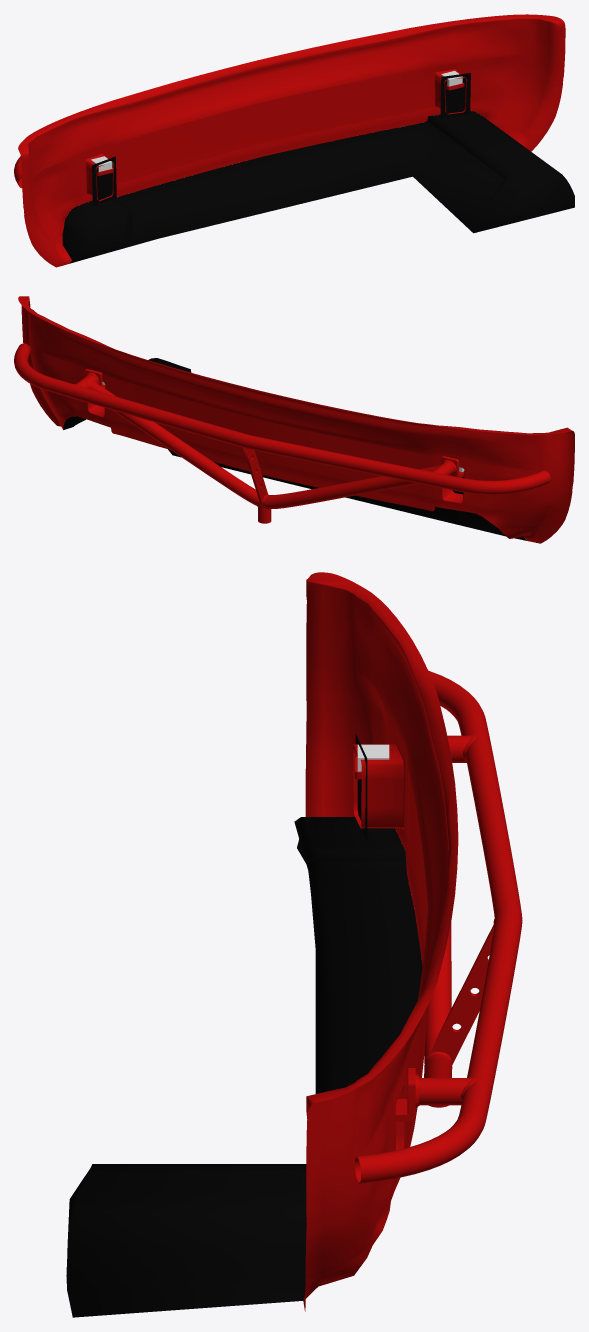
File: rearbumper_bashbar.glb
The picture shows the model from 3 angles, top to bottom: view 1: azimuth 30°, elevation 25°; view 2: azimuth 150°, elevation 25°; view 3: azimuth 270°, elevation 25°; orthographic projection. The views are drawn at different scales.
Visible parts, largest first — view 1: nobumper, undercarriage, screws, bashbar; view 2: nobumper, bashbar, undercarriage; view 3: undercarriage, nobumper, bashbar.
Boxes of the visible parts, left/top/right/bottom form: nobumper: left=18, top=14, right=565, bottom=267; undercarriage: left=62, top=73, right=574, bottom=263; screws: left=91, top=71, right=462, bottom=171; bashbar: left=14, top=83, right=464, bottom=188; nobumper: left=18, top=296, right=574, bottom=543; bashbar: left=14, top=343, right=550, bottom=523; undercarriage: left=63, top=358, right=526, bottom=540; undercarriage: left=66, top=733, right=422, bottom=1317; nobumper: left=303, top=572, right=458, bottom=1311; bashbar: left=354, top=670, right=522, bottom=1183.
Bounding box in the file's own units: 1.6 × 0.3743 × 0.5814.
